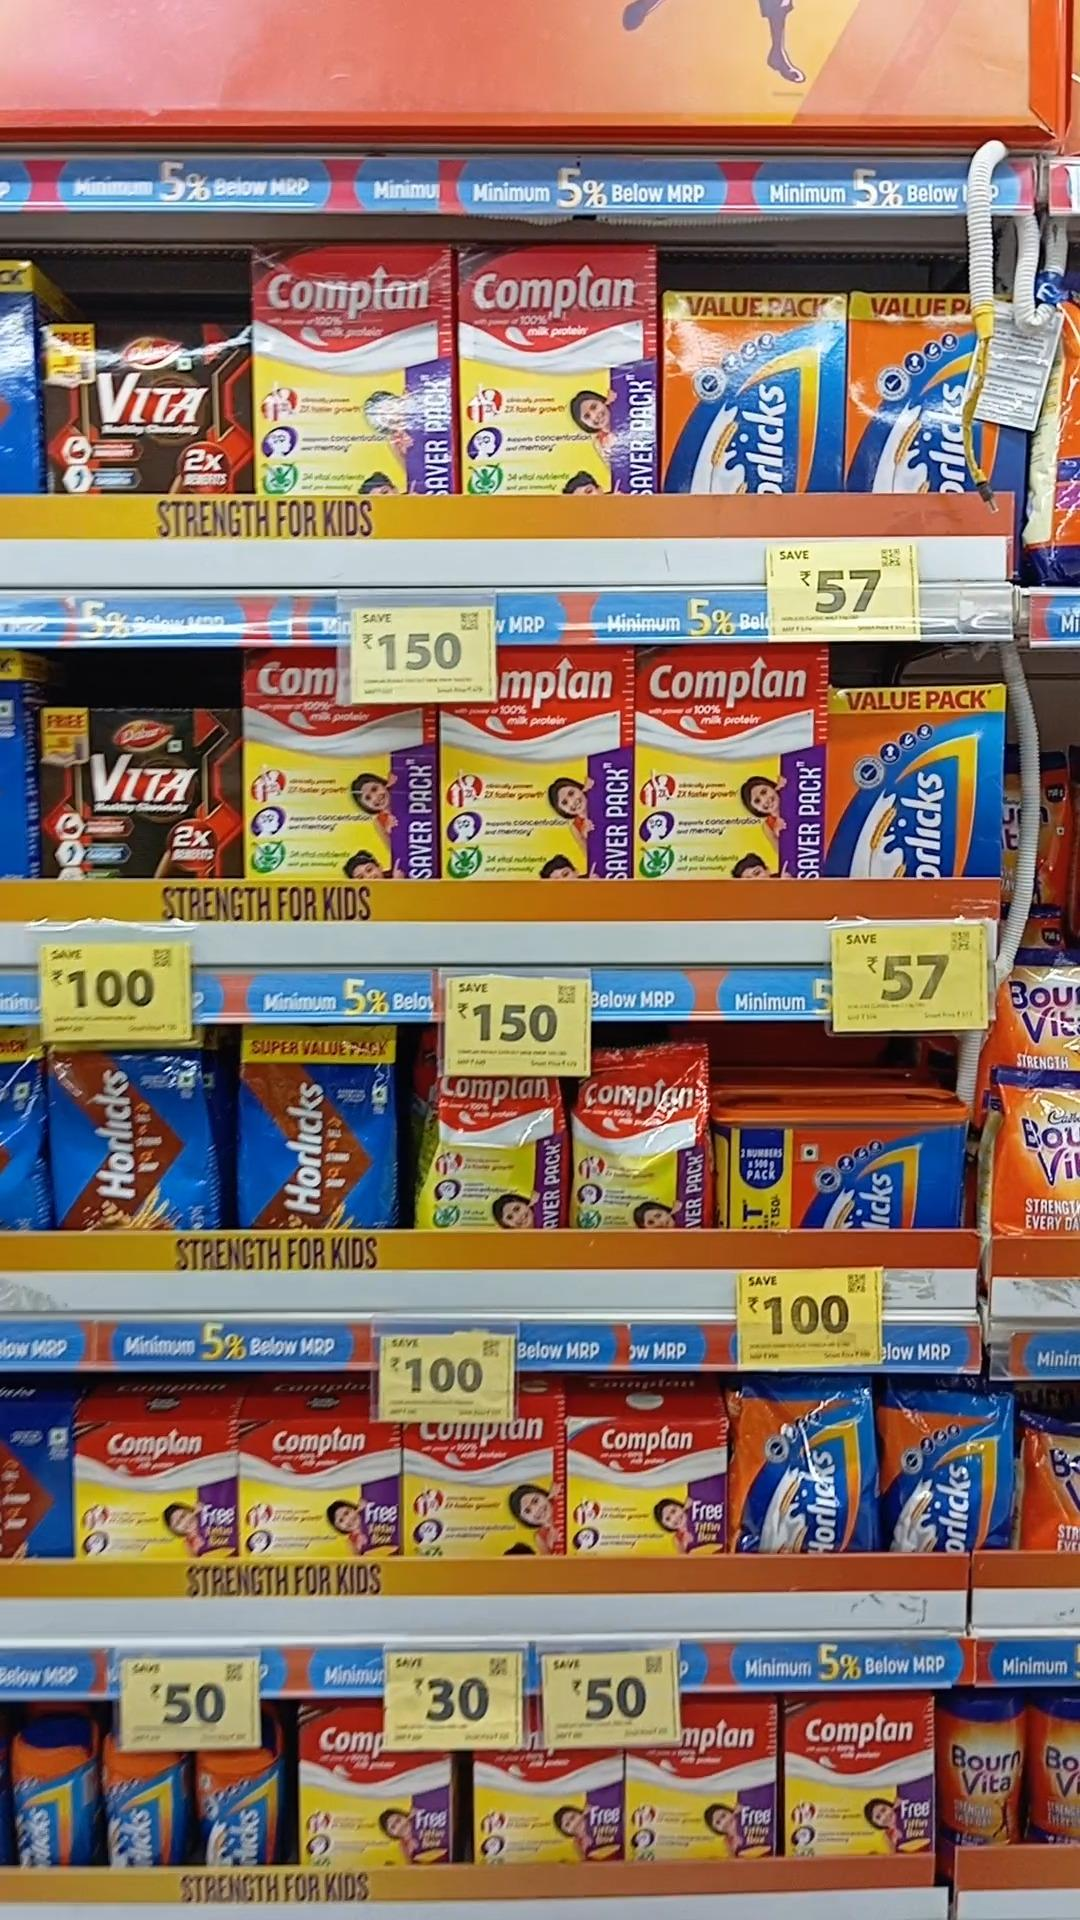BOURN_VITA_500_G_JAR: (938, 1687, 1027, 1854), (1033, 1688, 1080, 1850)
BOURN_VITA_750_G_POUCH: (985, 1060, 1080, 1237)
COMPLAN_CHOCOLATE_1_KG_PACK: (456, 245, 654, 498), (256, 245, 452, 497), (636, 644, 816, 882), (244, 650, 430, 880), (450, 646, 629, 880)
COMPLAN_CHOCOLATE_500_GMS_PACK: (299, 1691, 451, 1866), (785, 1697, 932, 1867), (73, 1422, 233, 1564), (240, 1419, 394, 1559)
COMPLAN_CREAMY_CLASSIC_500_G_PACK: (564, 1414, 725, 1559)
COMPLAN_RC_POUCH_700_GMS_12: (580, 1046, 711, 1233), (423, 1075, 562, 1232)
HORLICK_CHOCOLATE_750_G_POUCH: (51, 1048, 223, 1241), (237, 1023, 388, 1233)
HORLICK_CLASSIC_MALT_500_G_JAR: (13, 1725, 94, 1871), (103, 1737, 190, 1869), (198, 1751, 278, 1870)
HORLICK_CLASSIC_MALT_500_G_PACK: (666, 293, 845, 498), (829, 687, 1000, 881), (855, 295, 1021, 492)
HORLICK_CLASSIC_MALT_750_G_POUCH: (878, 1385, 1015, 1552), (737, 1381, 870, 1548)
